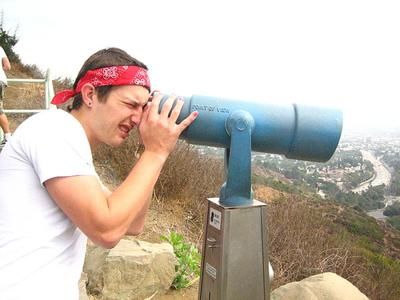person: (2, 48, 199, 299)
